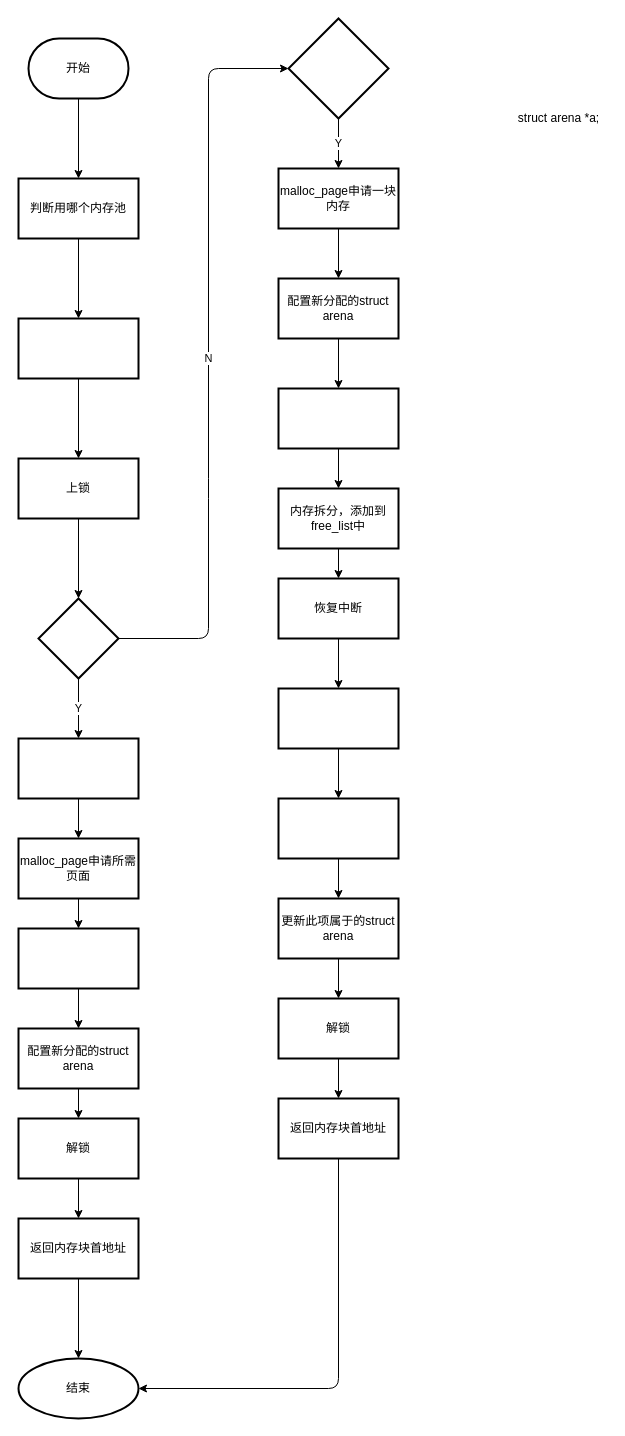
This 625x1436 diagram has some shape labels left out. The centre of each missing label's shape, as x and y in pixels:
"free_list为空？" belongs at point 338,68.
"list_pop出来一个" belongs at point 338,718.
"size>1024?" belongs at point 78,638.
"关中断" belongs at point 338,418.
"检查申请内存大小是否合理" belongs at point 78,348.
"清空内存块" belongs at point 338,828.
"清空所有页面" belongs at point 78,958.
"计算申请页面数" belongs at point 78,768.
